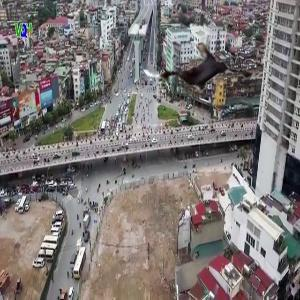drone: (143, 11, 264, 132)
